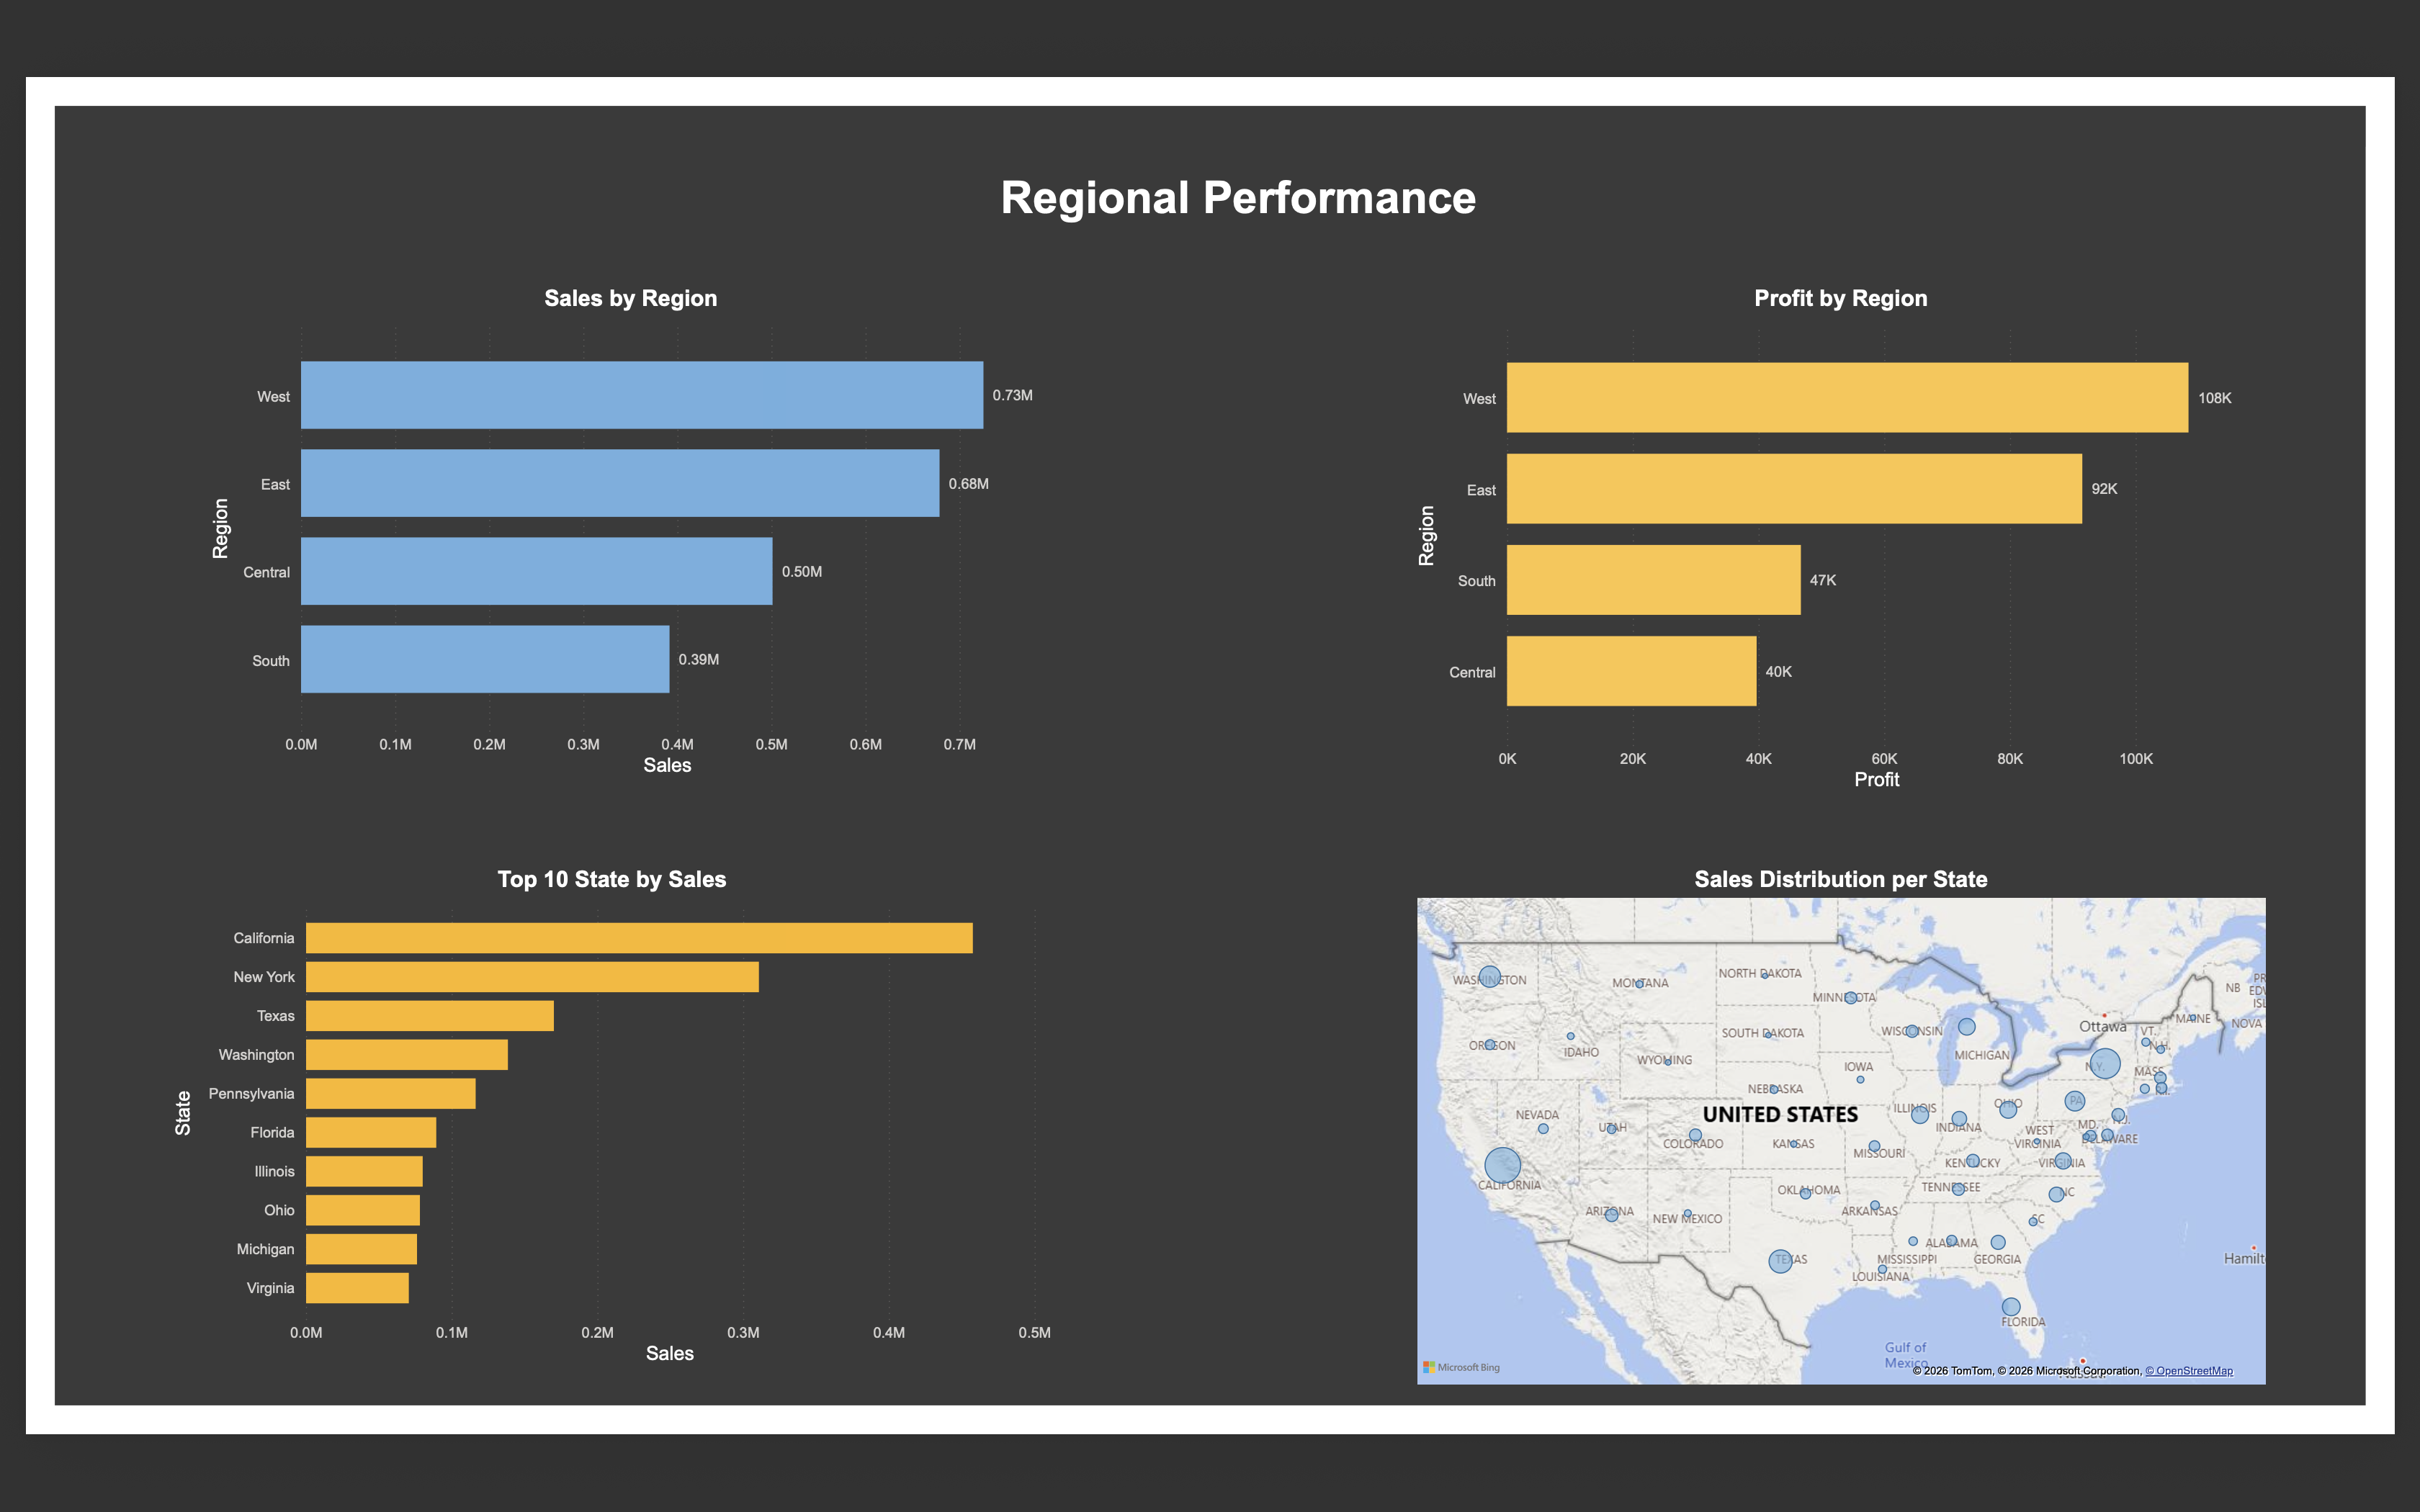

What the dashboard file says about the page in this screenshot:
{"tool":"powerbi","page":{"name":"Regional Performance","canvas":[1920,1080],"ordinal":1},"visuals":[{"type":"clusteredBarChart","title":"Sales by Region","fields":{"Category":["Sample - Superstore 3.Region"],"Y":["Sum(Sample - Superstore 3.Sales)"]},"box":[124.6,149.5,708.3,411.1],"z":0},{"type":"clusteredBarChart","title":"Profit by Region","fields":{"Category":["Sample - Superstore 3.Region"],"Y":["Sum(Sample - Superstore 3.Profit)"]},"box":[1126.6,149.5,715.5,423.6],"z":1000},{"type":"clusteredBarChart","title":"Top 10 State by Sales","fields":{"Category":["Sample - Superstore 3.State"],"Y":["Sum(Sample - Superstore 3.Sales)"]},"box":[94.3,631.8,738.6,418.2],"z":2000},{"type":"map","title":"Sales Distribution per State","fields":{"Category":["Sample - Superstore 3.State"],"Size":["Sum(Sample - Superstore 3.Sales)"]},"box":[1126.6,631.8,715.5,436],"z":3000},{"type":"textbox","box":[740.4,49.8,487.7,74.7],"z":4000}]}

Visuals, with their boxes on the page's 1920x1080 design canvas (x1, y1, x2, y2). These are canvas units, not pixel positions in the 2420x1512 screenshot, which may show the page scaled, cropped or inside an application window:
"Sales by Region" clusteredBarChart: BBox(125, 150, 833, 561)
"Profit by Region" clusteredBarChart: BBox(1127, 150, 1842, 573)
"Top 10 State by Sales" clusteredBarChart: BBox(94, 632, 833, 1050)
"Sales Distribution per State" map: BBox(1127, 632, 1842, 1068)
textbox: BBox(740, 50, 1228, 124)
